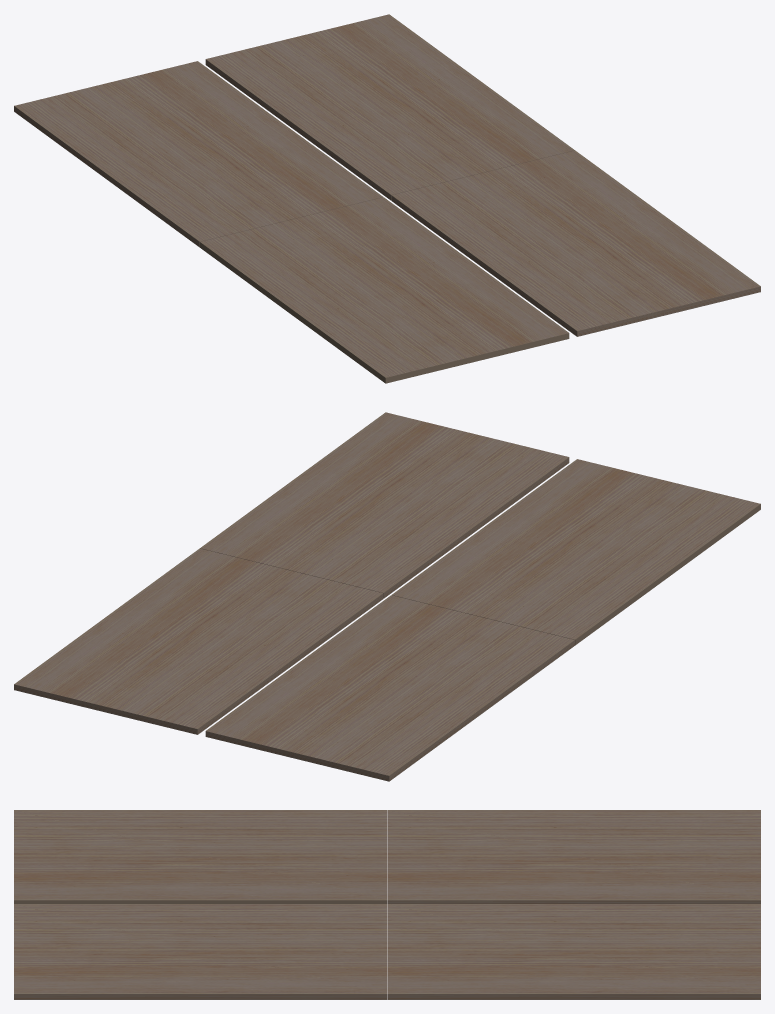
The model's file is PianoScrivaniaUfficio1.dae.
3 renders of one model, top to bottom at view 1: azimuth 30°, elevation 25°; view 2: azimuth 150°, elevation 25°; view 3: azimuth 270°, elevation 25°, orthographic.
Parts seen in each view (by area): view 1: Cube_003, Cube_001_004, Cube_002_004, Cube_003_004; view 2: Cube_002_004, Cube_003_004, Cube_003, Cube_001_004; view 3: Cube_002_004, Cube_003, Cube_003_004, Cube_001_004.
Boxes of the visible parts, x1,y1,x2,y2 form: Cube_003: (391,150,760,336); Cube_001_004: (200,197,569,383); Cube_002_004: (205,14,574,200); Cube_003_004: (14,61,382,247); Cube_002_004: (14,548,383,734); Cube_003_004: (205,595,574,781); Cube_003: (200,412,569,598); Cube_001_004: (392,459,760,645); Cube_002_004: (387,904,760,999); Cube_003: (14,904,387,999); Cube_003_004: (387,810,760,903); Cube_001_004: (14,810,387,903).
Size of the model in its own units: 1.63 by 2.8 by 0.024.
Materials: 1 (1 with a texture image).
